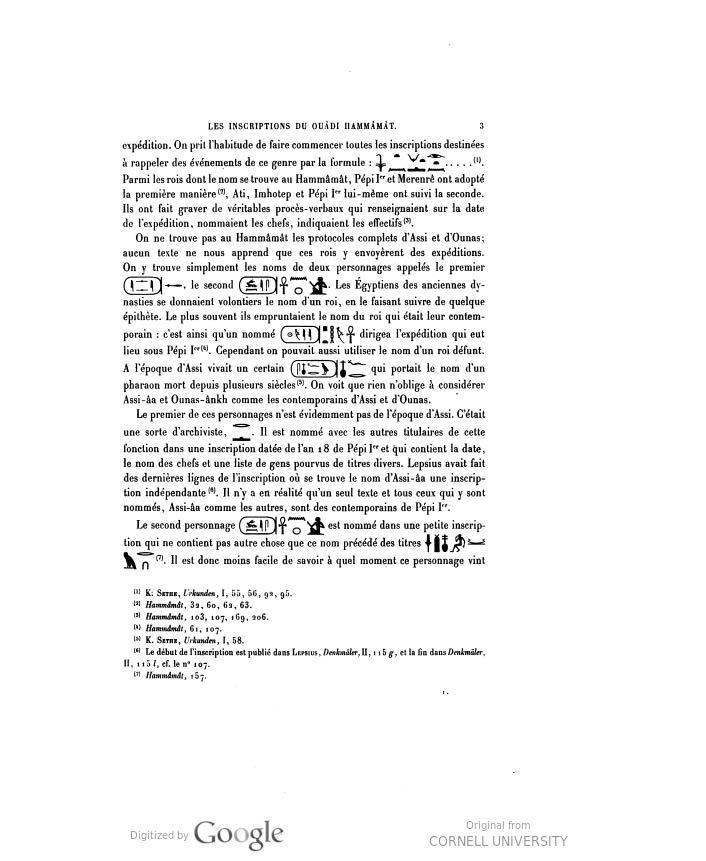circle: (117, 270, 170, 295), (276, 323, 325, 349), (290, 358, 341, 382), (236, 511, 280, 535), (236, 273, 281, 295)
